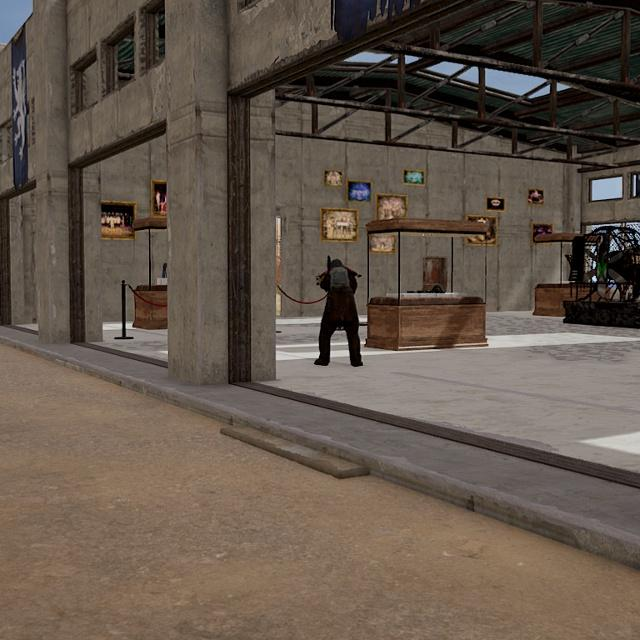head: (327, 257, 345, 271)
people: (314, 257, 364, 367)
